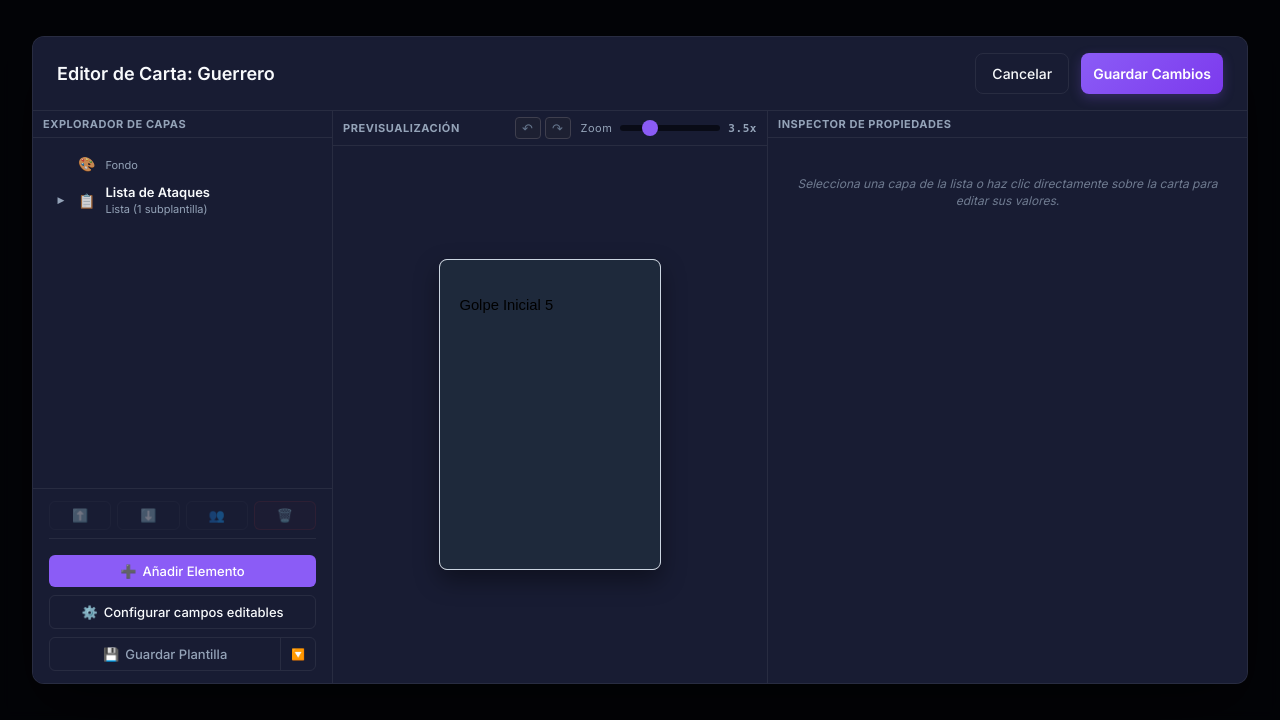
SRS-072: Elemento Lista con Subplantillas Hijas y Gestión Dinámica › RF-2: Inspector de Lista en EditCardModal › permite reordenar, duplicar y eliminar elementos de la lista en el inspector
Click the text "Lista de Ataques": (132, 200) [54, 184, 210, 216]
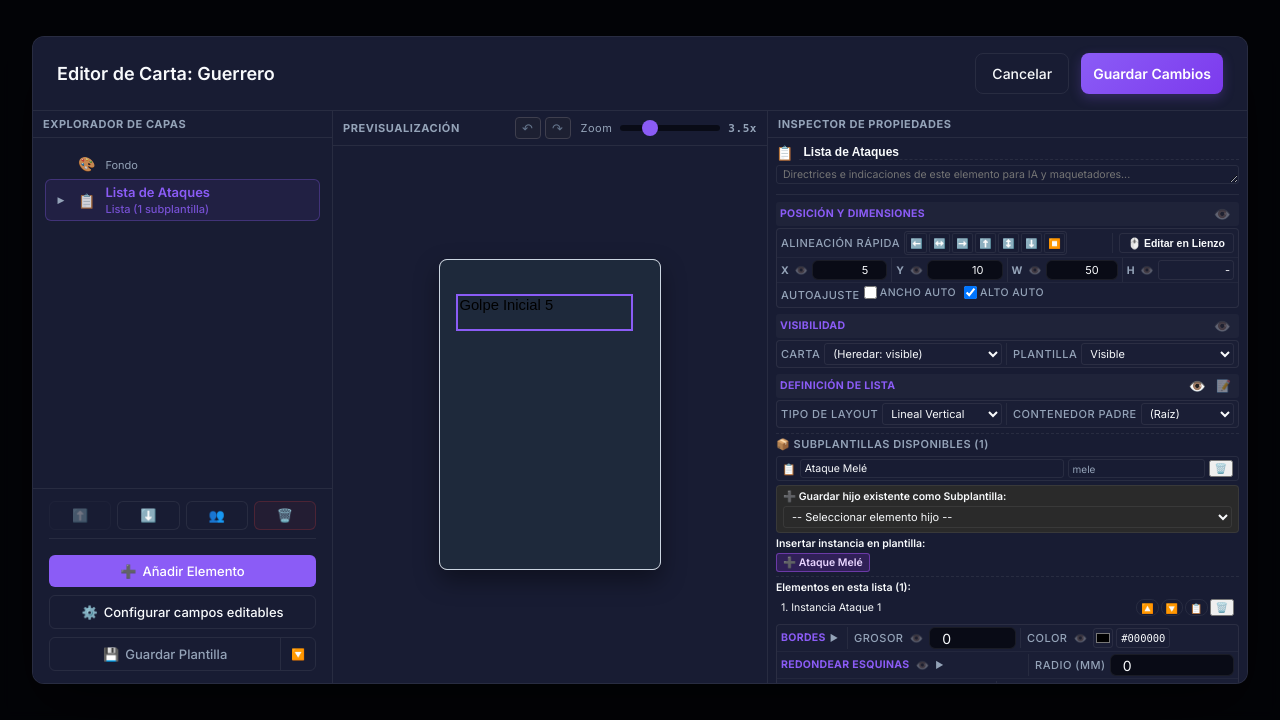
expect the button titled "Duplicar elemento" is shown: met
expect the button titled "Eliminar elemento" in the row of "Instancia Ataque 1" is shown: met, box [1210, 599, 1234, 616]
// Duplicar el elemento existente
Click the button titled "Duplicar elemento": (1196, 608) [1185, 599, 1208, 616]
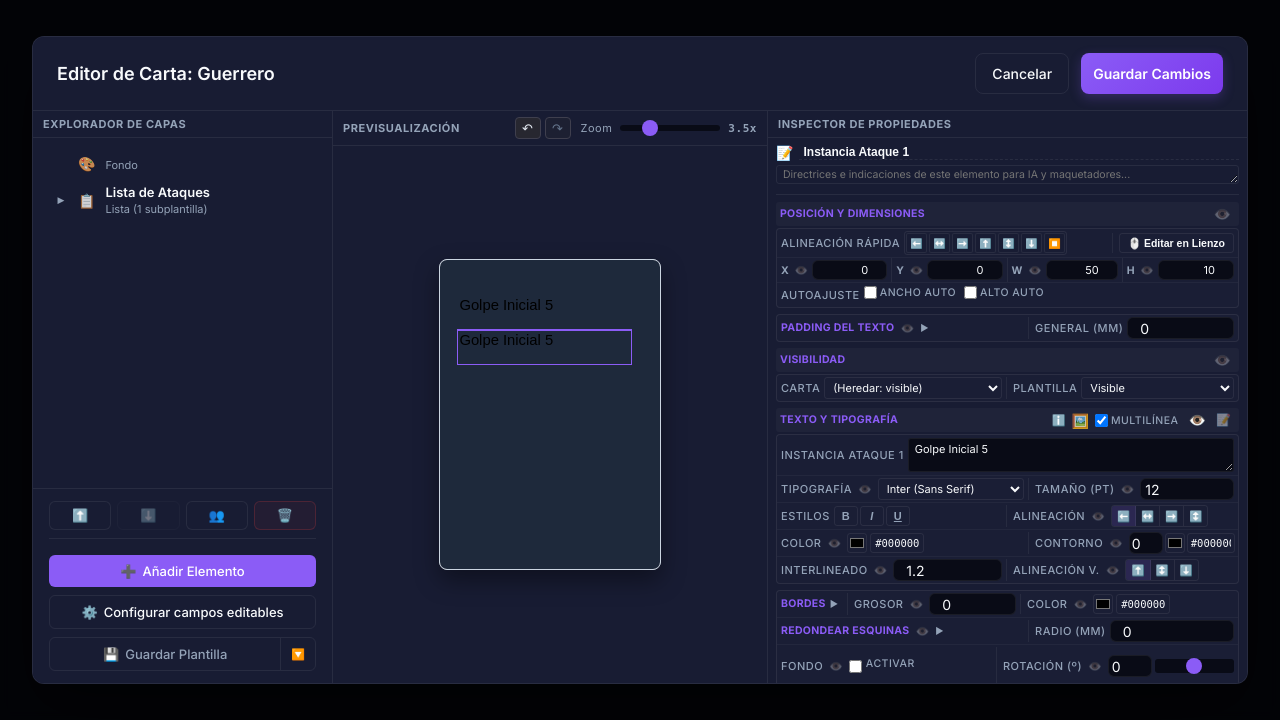
Click the text "Lista de Ataques": (132, 200) [54, 184, 210, 216]
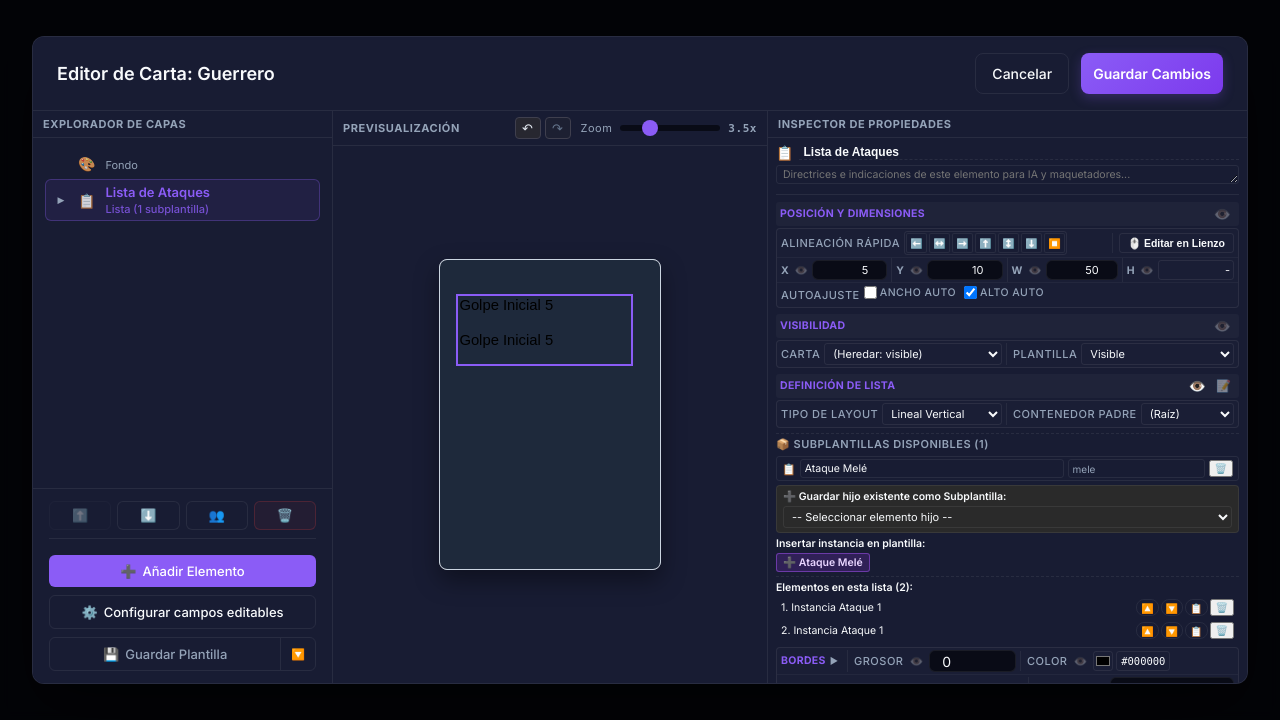
expect the number of buttons titled "Duplicar elemento" is 2: met, box [1185, 599, 1208, 616]; [1185, 622, 1208, 639]
// Eliminar un elemento
Click the 3rd button titled "Eliminar elemento": (1222, 608) [1210, 599, 1234, 616]
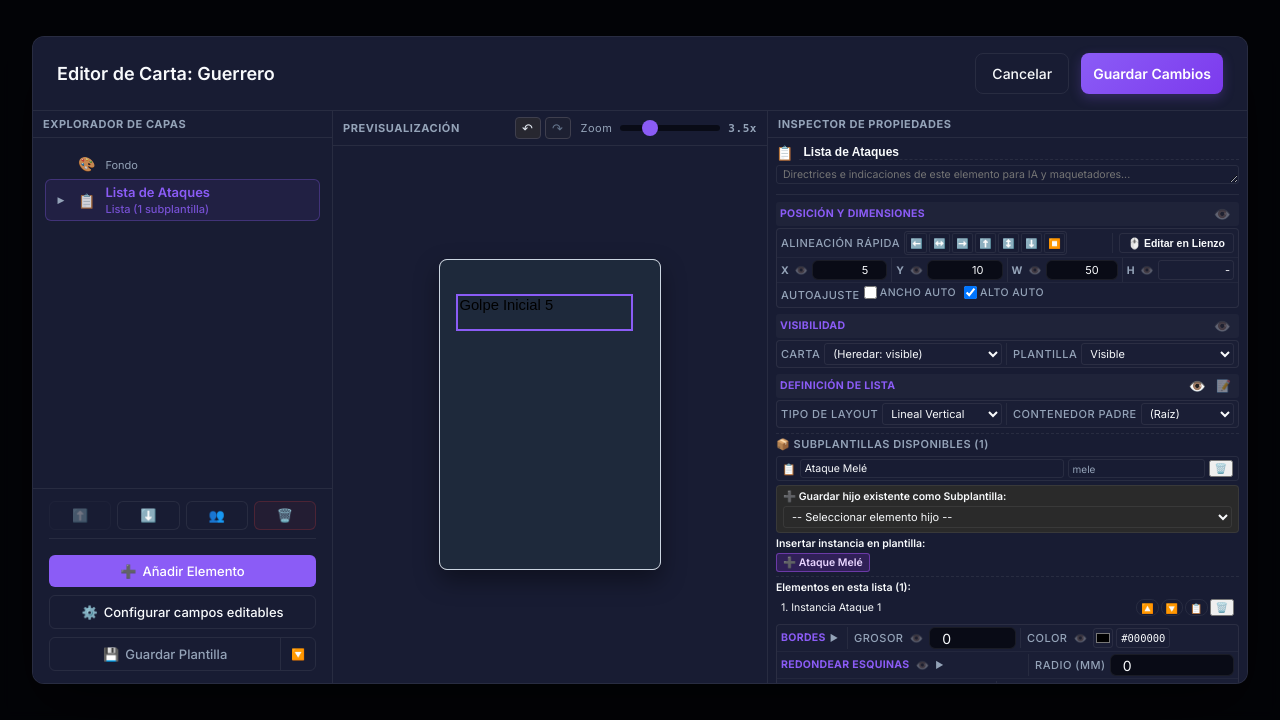
expect the number of buttons titled "Eliminar elemento" is 1: met, box [1210, 599, 1234, 616]
